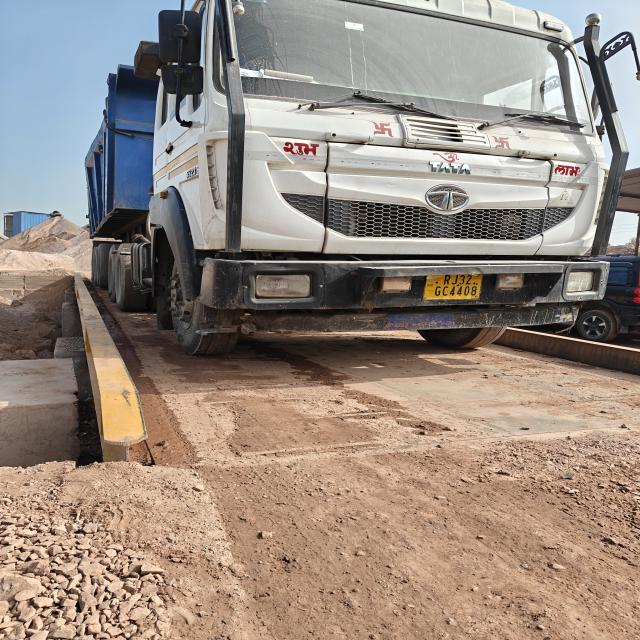license_plate: (424, 274, 482, 300)
